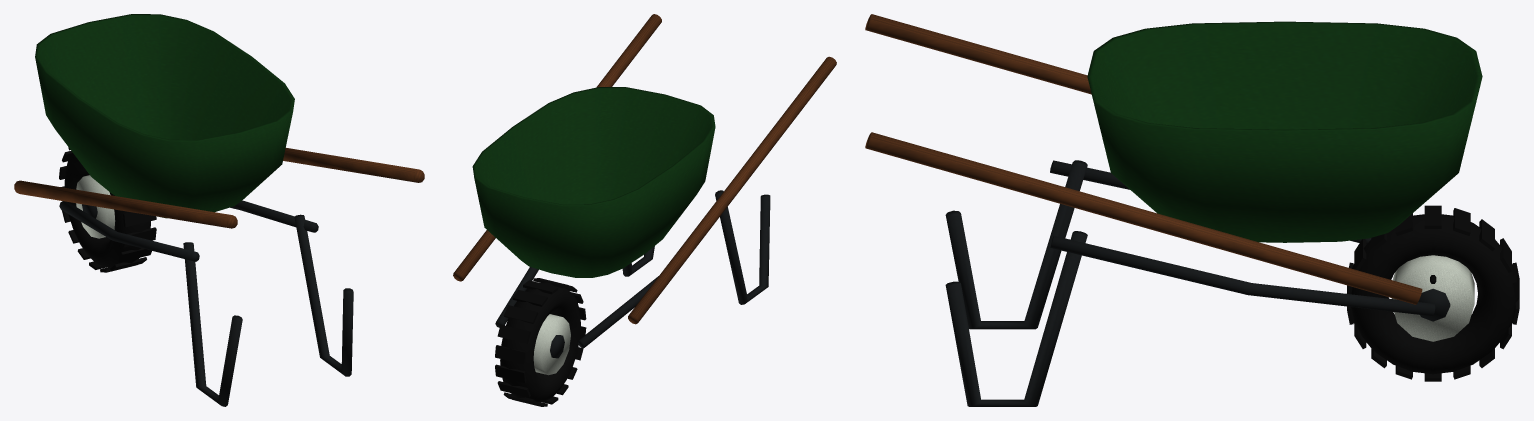
Rendered from SingleWheelbarrow.gltf.
3 renders of one model, left to right at view 1: azimuth 30°, elevation 25°; view 2: azimuth 150°, elevation 25°; view 3: azimuth 270°, elevation 25°, orthographic. The views are drawn at different scales.
Parts seen in each view (by area): view 1: SingleWheelbarrow__Body, SingleWheelbarrow__Wheel_Front; view 2: SingleWheelbarrow__Body, SingleWheelbarrow__Wheel_Front; view 3: SingleWheelbarrow__Body, SingleWheelbarrow__Wheel_Front.
Part boxes in pixels (box(x1,y1,x2,y2)): SingleWheelbarrow__Body: box(14, 14, 424, 406); SingleWheelbarrow__Wheel_Front: box(59, 147, 156, 272); SingleWheelbarrow__Body: box(453, 14, 836, 348); SingleWheelbarrow__Wheel_Front: box(495, 278, 586, 406); SingleWheelbarrow__Body: box(865, 14, 1482, 406); SingleWheelbarrow__Wheel_Front: box(1346, 205, 1519, 381).
Bounding box in the file's own units: 0.672 × 0.7455 × 1.48.
Materials: 1 (1 with a texture image).
